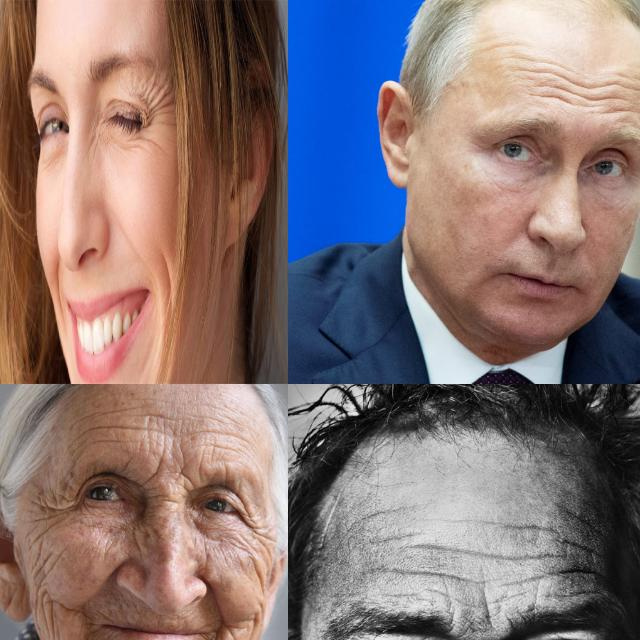bunny_line: (132, 520, 160, 554), (86, 133, 98, 159)
crows_feet: (30, 488, 84, 530), (240, 509, 270, 558), (143, 93, 170, 135)
forehead: (381, 556, 462, 598), (88, 407, 156, 448), (454, 512, 546, 540), (476, 540, 550, 574), (562, 528, 604, 580), (190, 422, 246, 458), (491, 576, 531, 614), (352, 498, 406, 526), (610, 66, 640, 114), (368, 528, 432, 550), (532, 68, 568, 104), (572, 72, 604, 112)
frown_line: (146, 461, 192, 503), (470, 590, 500, 634), (454, 622, 502, 640)
gummy_smile: (202, 579, 230, 633), (88, 559, 128, 595), (54, 260, 64, 312)
masseter: (34, 554, 64, 640), (245, 552, 275, 602), (245, 602, 264, 640), (163, 256, 174, 320)
sad_smile: (78, 610, 99, 640)
